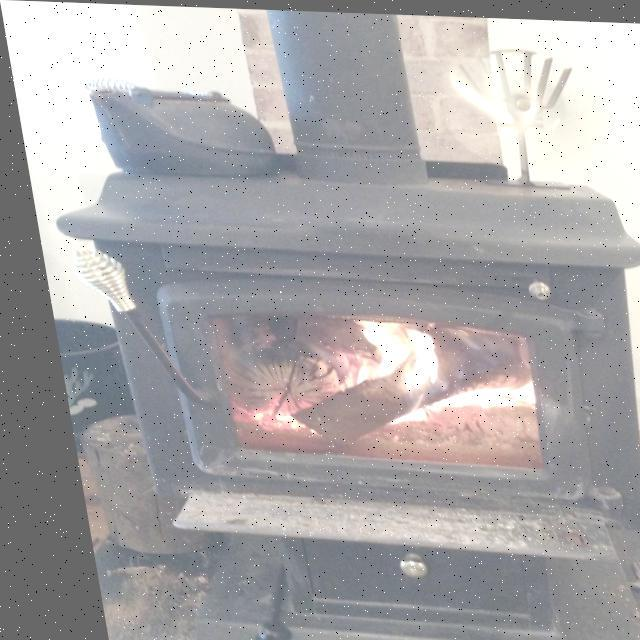Fire: (256, 310, 538, 449)
